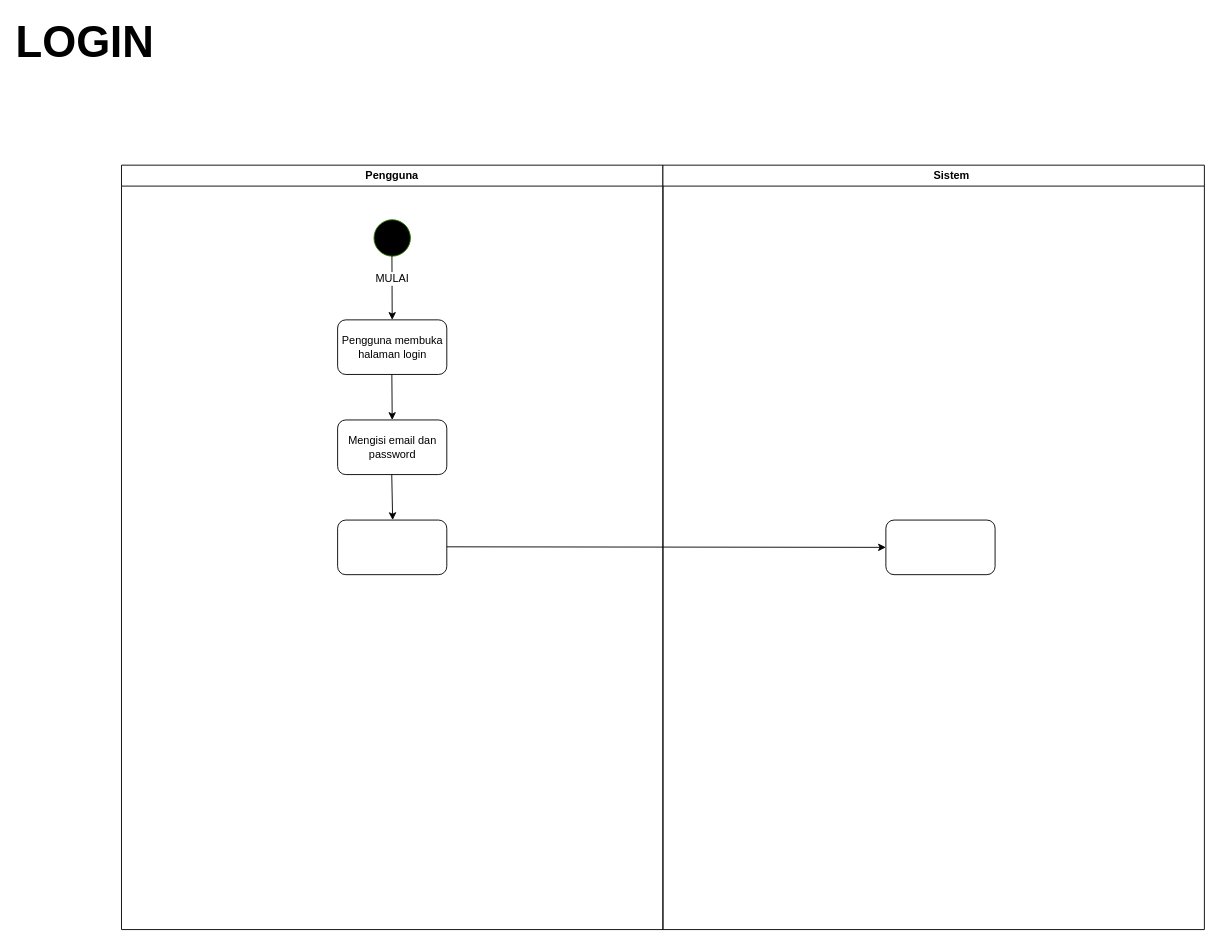
Image size: 1220x945. Some labels were removed from this diagram. Here are the shapes that lost their labels. From the top down, the centre of each, then its label:
At pixel 392 547: "Menekan tombol login".
At pixel 940 547: "Sistem memvalidasi data".
